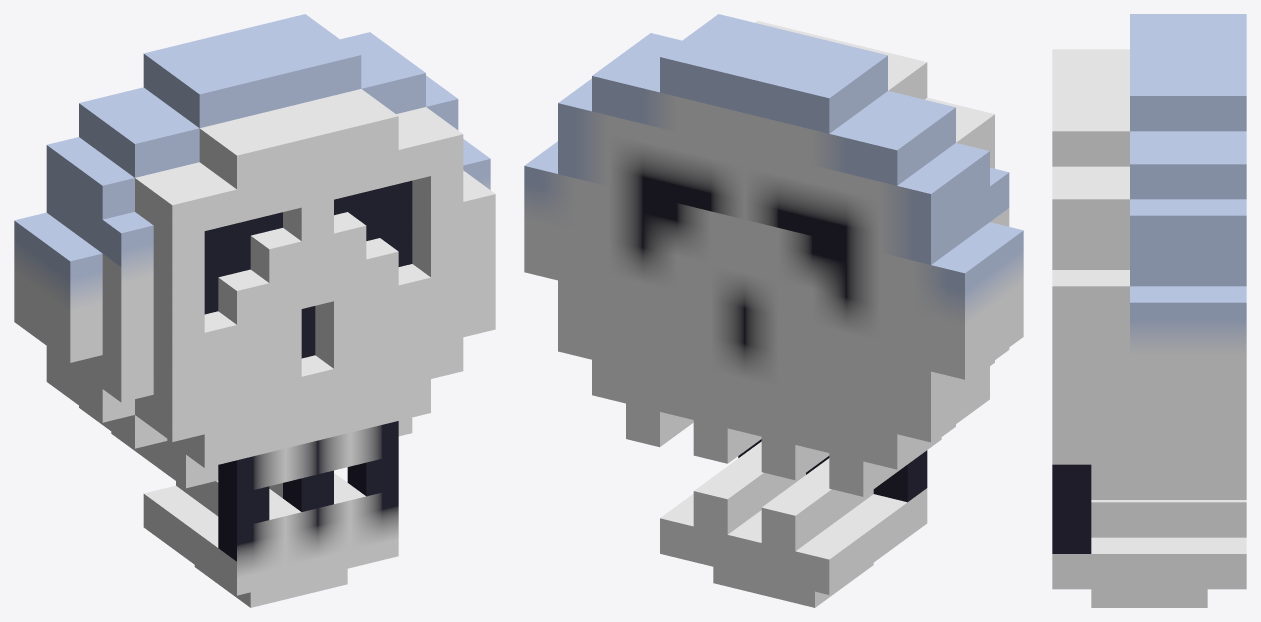
The model's file is skull.fbx.
3 renders of one model, left to right at view 1: azimuth 30°, elevation 25°; view 2: azimuth 150°, elevation 25°; view 3: azimuth 270°, elevation 25°, orthographic. The views are drawn at different scales.
Parts seen in each view (by area): view 1: skull; view 2: skull; view 3: skull.
Boxes of the visible parts, box(x1,y1,x2,y2) form: skull: box(14, 14, 495, 607); skull: box(524, 14, 1023, 607); skull: box(1052, 14, 1246, 607).
Bounding box in the file's own units: 13 × 15 × 5.
